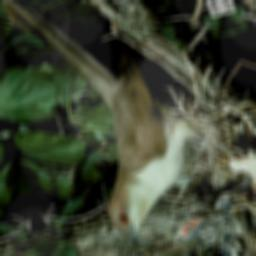Cuckoo: (0, 0, 234, 256)
